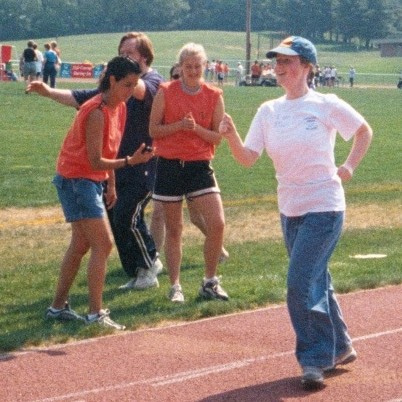person: (218, 36, 373, 391)
